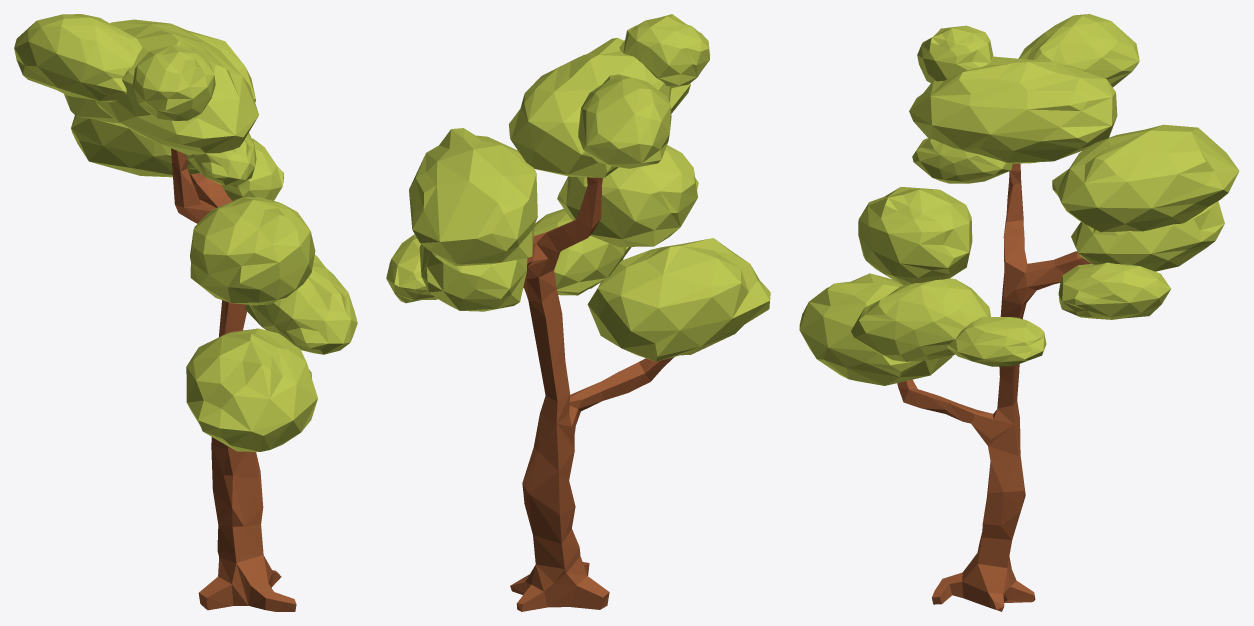
The model's file is New_Tree_10.fbx.
The picture shows the model from 3 angles, left to right: view 1: azimuth 30°, elevation 25°; view 2: azimuth 150°, elevation 25°; view 3: azimuth 270°, elevation 25°; orthographic projection. The views are drawn at different scales.
Parts seen in each view (by area): view 1: Icosphere.087, Cube.016, Icosphere.090, Icosphere.091, Icosphere.092, Icosphere.085, Icosphere.088, Icosphere.093, Icosphere.094, Icosphere.096; view 2: Cube.016, Icosphere.085, Icosphere.087, Icosphere.091, Icosphere.090, Icosphere.092, Icosphere.093, Icosphere.088, Icosphere.096; view 3: Icosphere.085, Icosphere.091, Cube.016, Icosphere.090, Icosphere.088, Icosphere.087, Icosphere.096, Icosphere.092, Icosphere.089, Icosphere.093, Icosphere.094.
Part boxes in pixels (box(x1,y1,x2,y2)): Icosphere.087: box(186, 328, 317, 451); Cube.016: box(171, 148, 296, 611); Icosphere.090: box(190, 197, 315, 305); Icosphere.091: box(95, 24, 258, 155); Icosphere.092: box(14, 14, 142, 102); Icosphere.085: box(64, 19, 255, 177); Icosphere.088: box(244, 261, 357, 354); Icosphere.093: box(131, 45, 215, 120); Icosphere.094: box(185, 133, 256, 185); Icosphere.096: box(221, 138, 283, 201); Cube.016: box(510, 177, 674, 611); Icosphere.085: box(409, 128, 537, 311); Icosphere.087: box(587, 238, 770, 361); Icosphere.091: box(508, 37, 690, 177); Icosphere.090: box(557, 145, 698, 247); Icosphere.092: box(578, 74, 671, 168); Icosphere.093: box(619, 14, 710, 88); Icosphere.088: box(533, 209, 631, 295); Icosphere.096: box(386, 234, 437, 303); Icosphere.085: box(1052, 124, 1239, 271); Icosphere.091: box(909, 56, 1117, 163); Cube.016: box(897, 163, 1091, 611); Icosphere.090: box(858, 187, 972, 285); Icosphere.088: box(851, 278, 990, 361); Icosphere.087: box(799, 273, 952, 385); Icosphere.096: box(1058, 262, 1171, 319); Icosphere.092: box(1018, 14, 1139, 87); Icosphere.089: box(947, 316, 1046, 366); Icosphere.093: box(917, 25, 993, 82); Icosphere.094: box(912, 138, 1013, 183).
Bounding box in the file's own units: 440 × 971 × 730.
